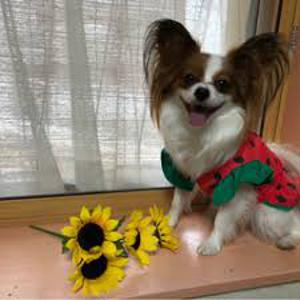yell: (142, 18, 300, 254)
